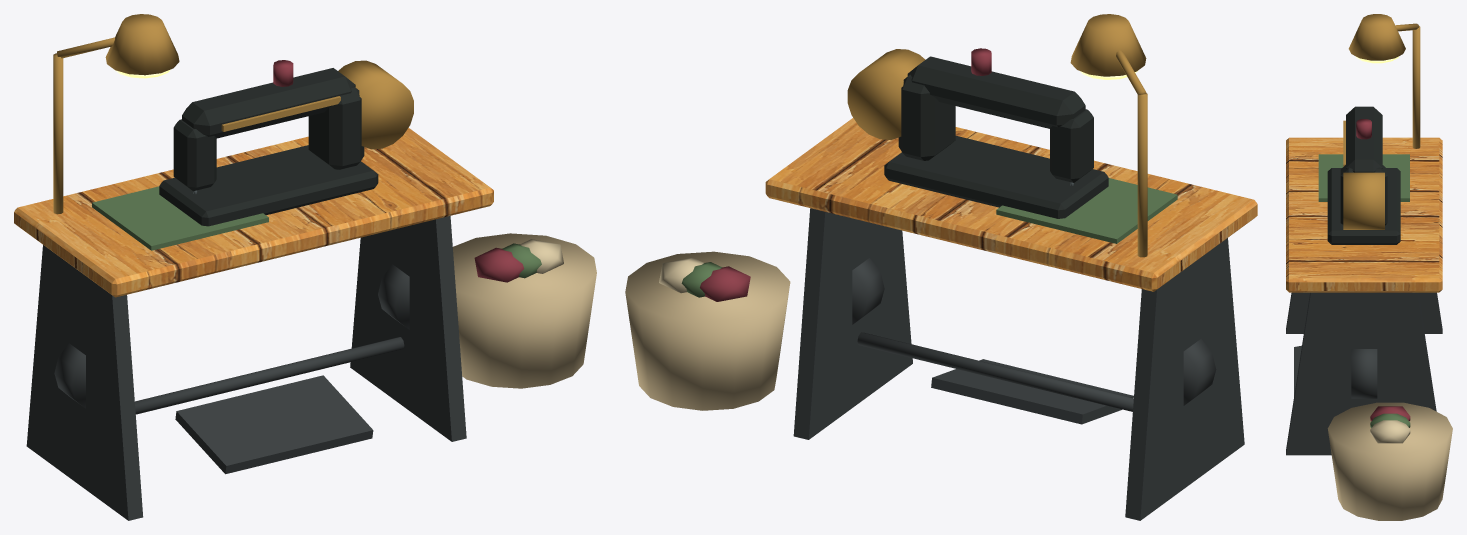
The picture shows the model from 3 angles, left to right: view 1: azimuth 30°, elevation 25°; view 2: azimuth 150°, elevation 25°; view 3: azimuth 270°, elevation 25°; orthographic projection. The views are drawn at different scales.
Visible parts, largest first — view 1: shop_iron, shop_oak, shop_ink, shop_sack, shop_brass, shop_cloth_3, shop_cloth_0, shop_cloth_6; view 2: shop_iron, shop_oak, shop_ink, shop_sack, shop_brass, shop_cloth_3, shop_cloth_0, shop_cloth_6; view 3: shop_iron, shop_oak, shop_sack, shop_brass, shop_ink, shop_cloth_3, shop_cloth_6, shop_cloth_0.
Part boxes in pixels (x1,y1,x2,y2): shop_iron: [26, 216, 466, 520]; shop_oak: [14, 127, 493, 297]; shop_ink: [159, 68, 378, 226]; shop_sack: [453, 233, 596, 388]; shop_brass: [53, 14, 413, 214]; shop_cloth_3: [92, 186, 541, 278]; shop_cloth_0: [273, 60, 524, 282]; shop_cloth_6: [520, 239, 563, 273]; shop_iron: [793, 208, 1244, 520]; shop_oak: [765, 118, 1257, 291]; shop_ink: [884, 56, 1108, 218]; shop_sack: [625, 251, 790, 410]; shop_brass: [847, 14, 1147, 257]; shop_cloth_3: [681, 178, 1177, 297]; shop_cloth_0: [700, 48, 991, 301]; shop_cloth_6: [659, 257, 703, 293]; shop_iron: [1286, 292, 1442, 455]; shop_oak: [1286, 137, 1442, 292]; shop_sack: [1327, 402, 1452, 520]; shop_brass: [1343, 14, 1420, 229]; shop_ink: [1327, 106, 1400, 244]; shop_cloth_3: [1318, 154, 1410, 427]; shop_cloth_6: [1370, 420, 1410, 443]; shop_cloth_0: [1356, 119, 1410, 421].
Bounding box in the file's own units: 1.83 × 1.42 × 0.64.
10 materials, 1 textured.
